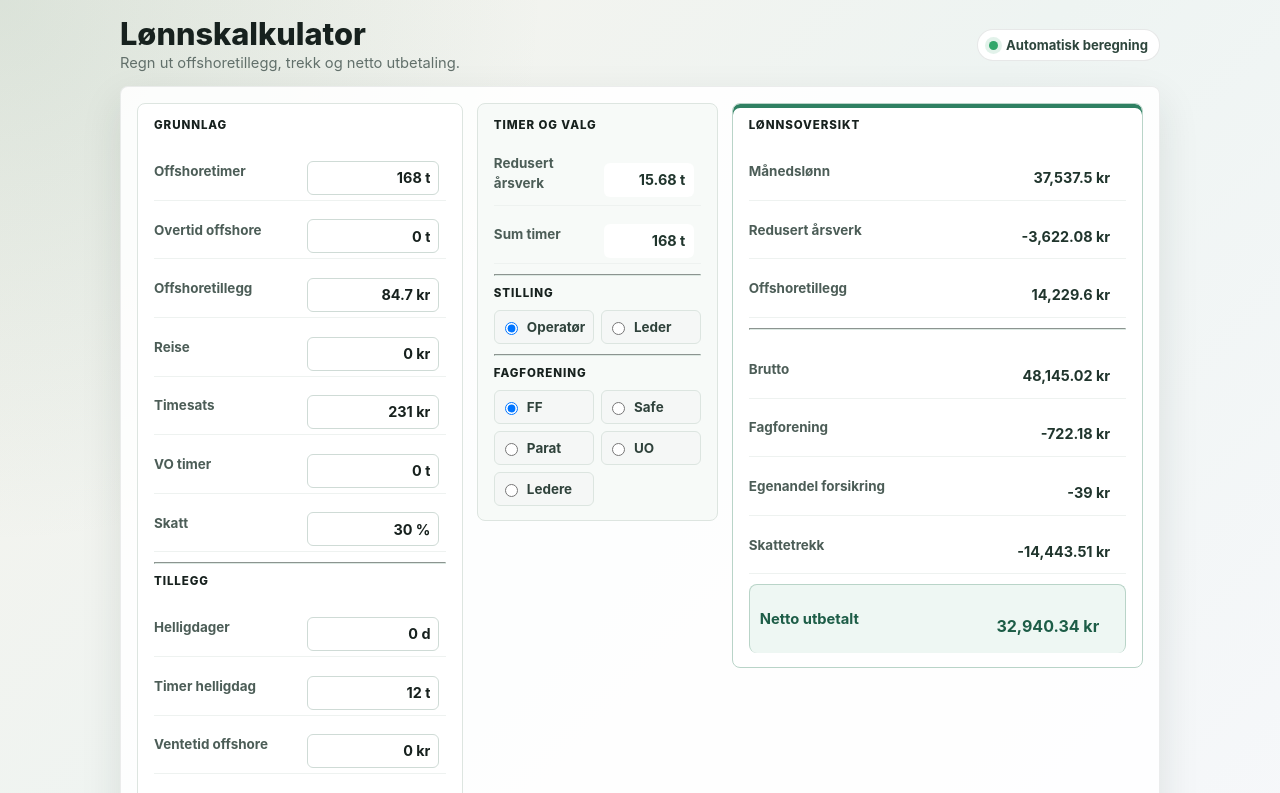
Test case: deducts 220 kr for the Ledere union
Click the radio button labelled "Ledere" at (511, 491), box [505, 484, 518, 497]
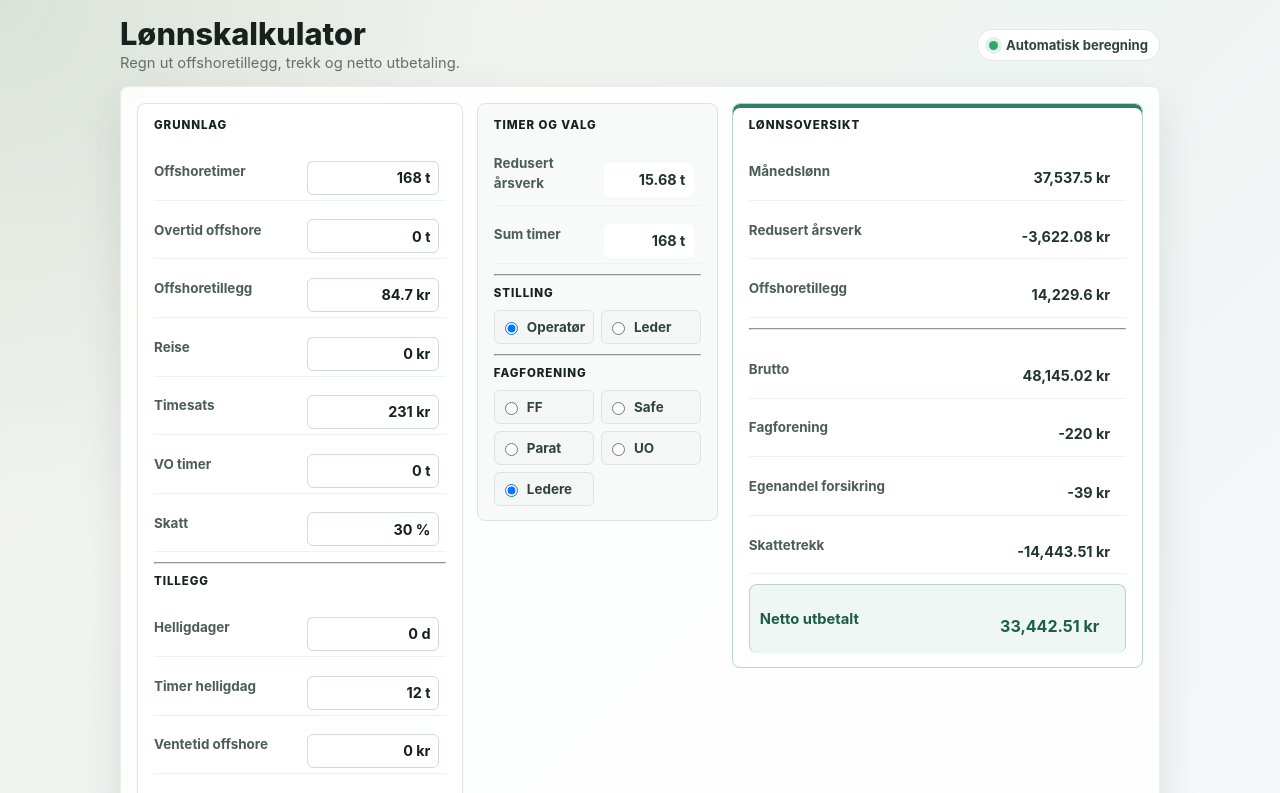
Expected: the field labelled "Fagforening" holds "-220 kr", [944, 417, 1119, 451]
